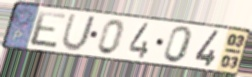0: (163, 25, 194, 64), (96, 18, 126, 56)
4: (193, 29, 221, 68), (127, 21, 150, 60)
E: (29, 9, 69, 50)
U: (59, 13, 97, 53)
